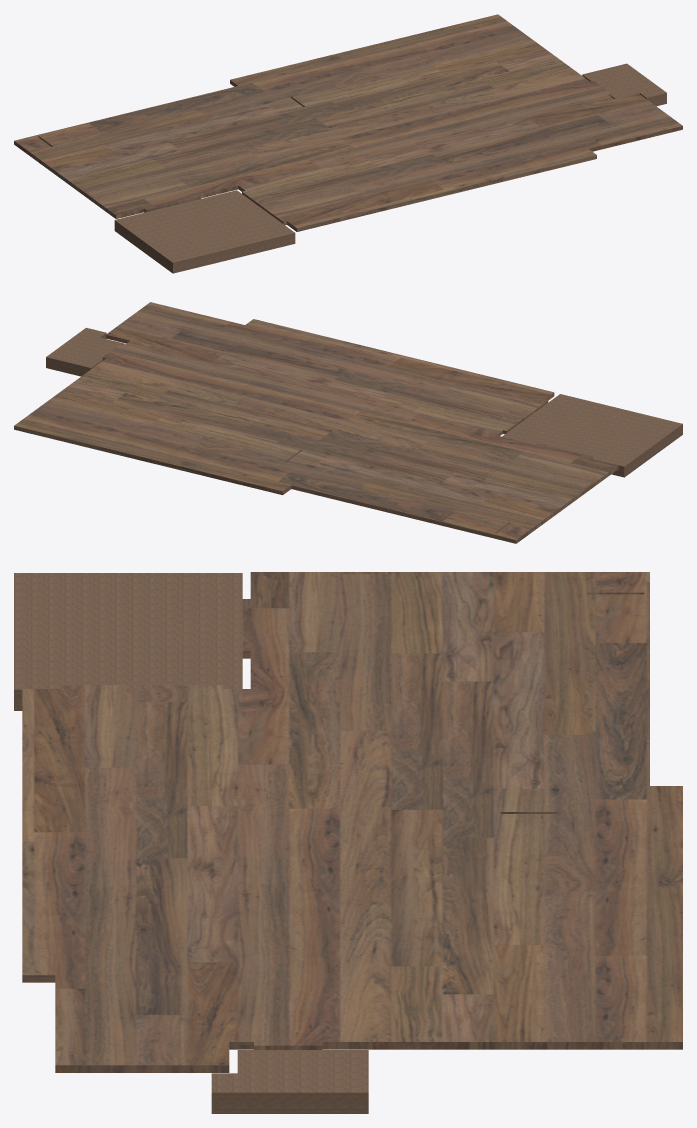
Rendered from Floor.obj.
The picture shows the model from 3 angles, top to bottom: view 1: azimuth 30°, elevation 25°; view 2: azimuth 150°, elevation 25°; view 3: azimuth 270°, elevation 25°; orthographic projection. The views are drawn at different scales.
Parts seen in each view (by area): view 1: Floor_Generic_150mm__202770_, Floor_Concrete_Domestic_425mm__204402_, Object001; view 2: Floor_Generic_150mm__202770_, Floor_Concrete_Domestic_425mm__204402_, Object001; view 3: Floor_Generic_150mm__202770_, Floor_Concrete_Domestic_425mm__204402_, Object001.
Boxes of the visible parts, bbox=[...] form: Floor_Generic_150mm__202770_: bbox=[14, 14, 682, 231]; Floor_Concrete_Domestic_425mm__204402_: bbox=[114, 190, 295, 273]; Object001: bbox=[582, 63, 666, 106]; Floor_Generic_150mm__202770_: bbox=[14, 302, 618, 543]; Floor_Concrete_Domestic_425mm__204402_: bbox=[502, 394, 682, 477]; Object001: bbox=[46, 327, 124, 376]; Floor_Generic_150mm__202770_: bbox=[22, 572, 682, 1072]; Floor_Concrete_Domestic_425mm__204402_: bbox=[14, 573, 242, 710]; Object001: bbox=[211, 1050, 368, 1113].
Size of the model in its own units: 22.34 by 0.511 by 12.15.
Materials: 1 (1 with a texture image).
